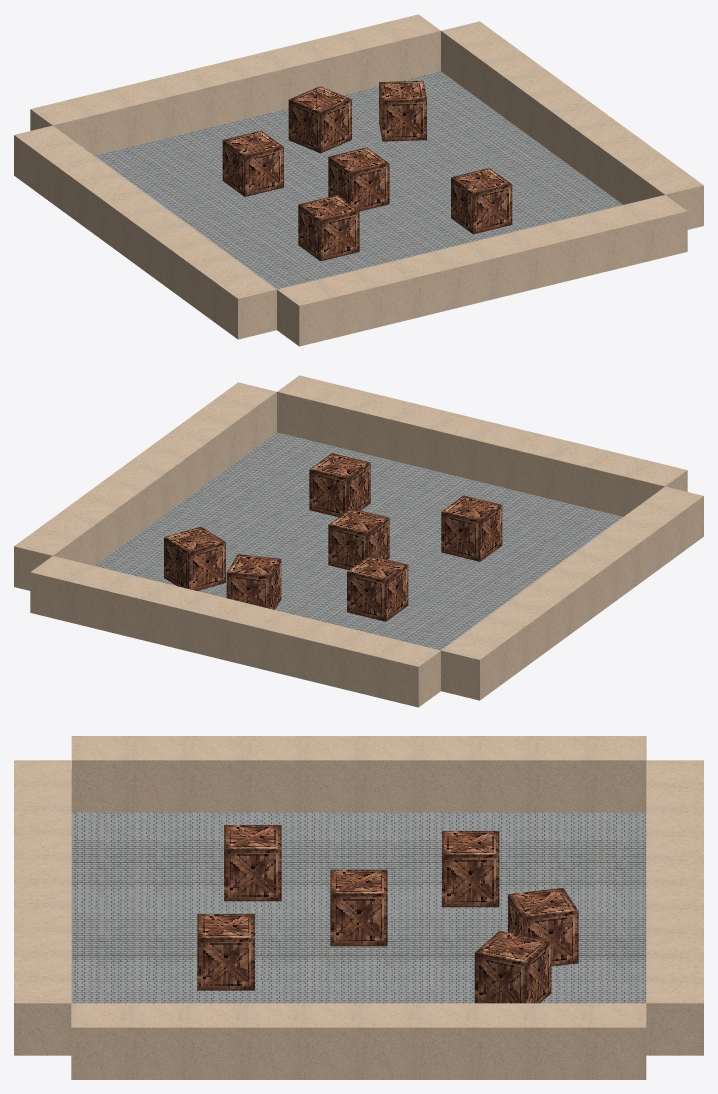
3 renders of one model, top to bottom at view 1: azimuth 30°, elevation 25°; view 2: azimuth 150°, elevation 25°; view 3: azimuth 270°, elevation 25°, orthographic. The views are drawn at different scales.
Visible parts, largest first — view 1: Floor, Wall.002, Wall.000, Wall.001, Wall.003, Box.004, Box.003, Box.001, Box.002, Box.000, Box.005; view 2: Floor, Wall.000, Wall.002, Wall.001, Wall.003, Box.003, Box.002, Box.005, Box.001, Box.000, Box.004; view 3: Floor, Wall.001, Wall.003, Wall.000, Wall.002, Box.005, Box.000, Box.001, Box.002, Box.003, Box.004.
Part boxes in pixels (x1,y1,x2,y2): Floor: (95, 71, 622, 289); Wall.002: (277, 195, 687, 346); Wall.000: (30, 14, 440, 155); Wall.001: (14, 125, 276, 339); Wall.003: (441, 21, 703, 229); Box.004: (288, 86, 351, 153); Box.003: (222, 130, 283, 196); Box.001: (451, 168, 512, 234); Box.002: (298, 195, 359, 261); Box.000: (328, 147, 389, 211); Box.005: (379, 80, 426, 141); Floor: (95, 432, 622, 650); Wall.000: (30, 556, 440, 707); Wall.002: (277, 375, 687, 516); Wall.001: (441, 486, 703, 700); Wall.003: (14, 382, 276, 590); Box.003: (347, 555, 408, 621); Box.002: (441, 495, 502, 561); Box.005: (164, 526, 225, 590); Box.001: (309, 453, 370, 516); Box.000: (328, 508, 389, 570); Box.004: (226, 554, 281, 609); Floor: (71, 812, 646, 1003); Wall.001: (71, 736, 646, 812); Wall.003: (71, 1003, 646, 1079); Wall.000: (646, 760, 703, 1055); Wall.002: (14, 760, 71, 1055); Box.005: (474, 931, 551, 1003); Box.000: (330, 869, 387, 946); Box.001: (197, 914, 254, 990); Box.002: (224, 825, 281, 901); Box.003: (442, 831, 499, 907); Box.004: (508, 888, 578, 966).
Bounding box in the file's own units: 24 × 2 × 24.
Materials: 3 (3 with a texture image).
